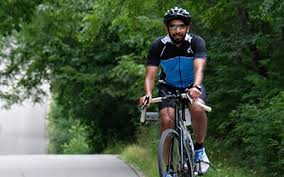helmet: (157, 4, 198, 46)
